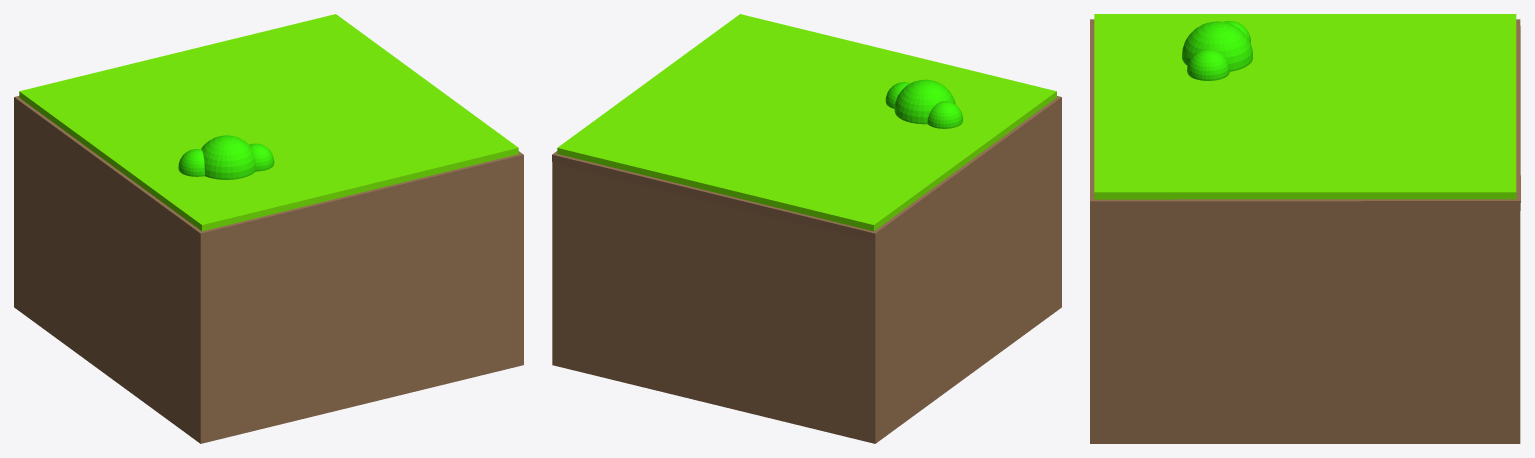
Rendered from Bush_Tile.glb.
3 renders of one model, left to right at view 1: azimuth 30°, elevation 25°; view 2: azimuth 150°, elevation 25°; view 3: azimuth 270°, elevation 25°, orthographic. The views are drawn at different scales.
Parts seen in each view (by area): view 1: Grass, Bush; view 2: Grass, Bush; view 3: Grass, Bush.
Boxes of the visible parts, x1,y1,x2,y2 form: Grass: (14,14,523,443); Bush: (178,135,274,179); Grass: (552,14,1061,443); Bush: (885,79,962,128); Grass: (1090,14,1520,443); Bush: (1182,21,1252,80).
Bounding box in the file's own units: 1 × 0.7256 × 1.
